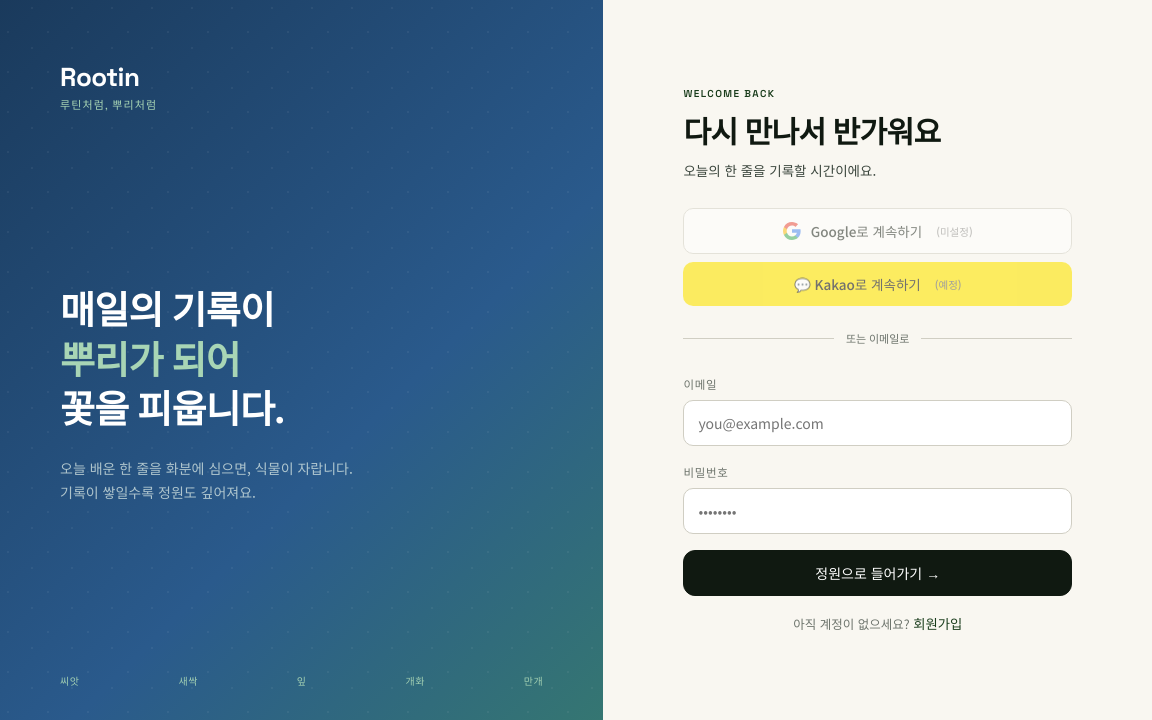
Test: 클라이언트 유효성 검사 › 이메일이 비어있으면 에러 메시지가 표시된다
The width and height of the screenshot is (1152, 720).
What coordinates should you click on to do the following:
click the button "정원으로 들어가기 →"
I would click on:
 (878, 573)
Its box is [683,550,1072,596].
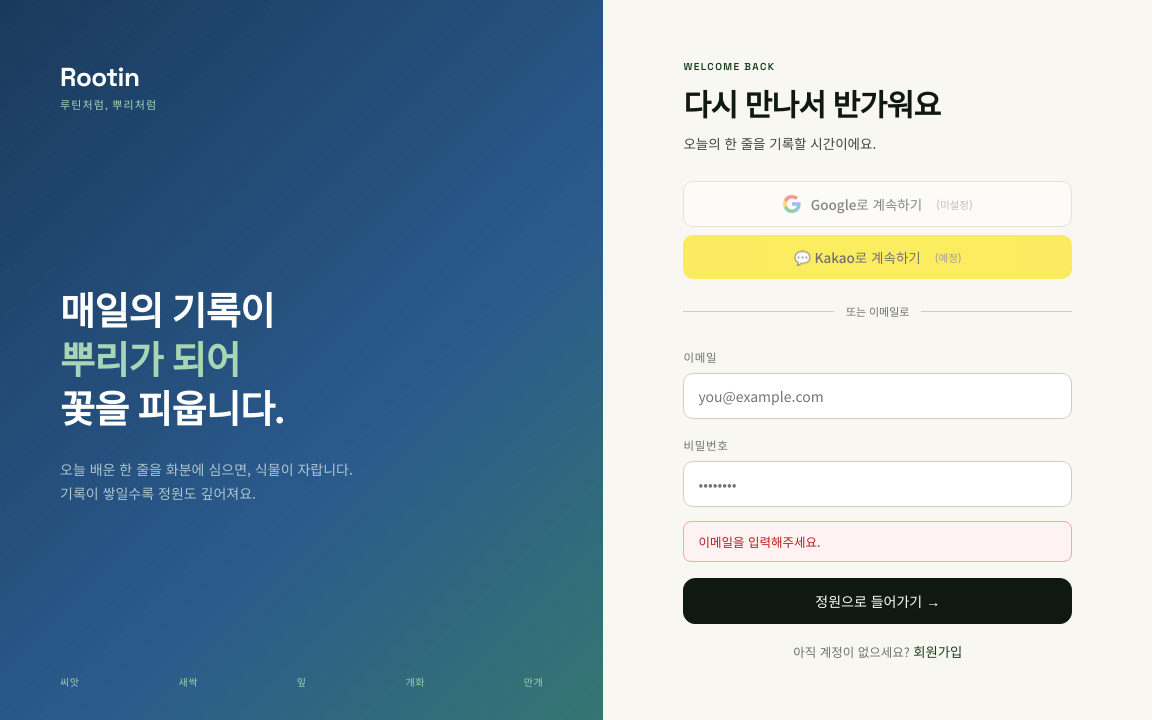
Now the text "이메일을 입력해주세요." is shown, box [683,521,1072,562]
